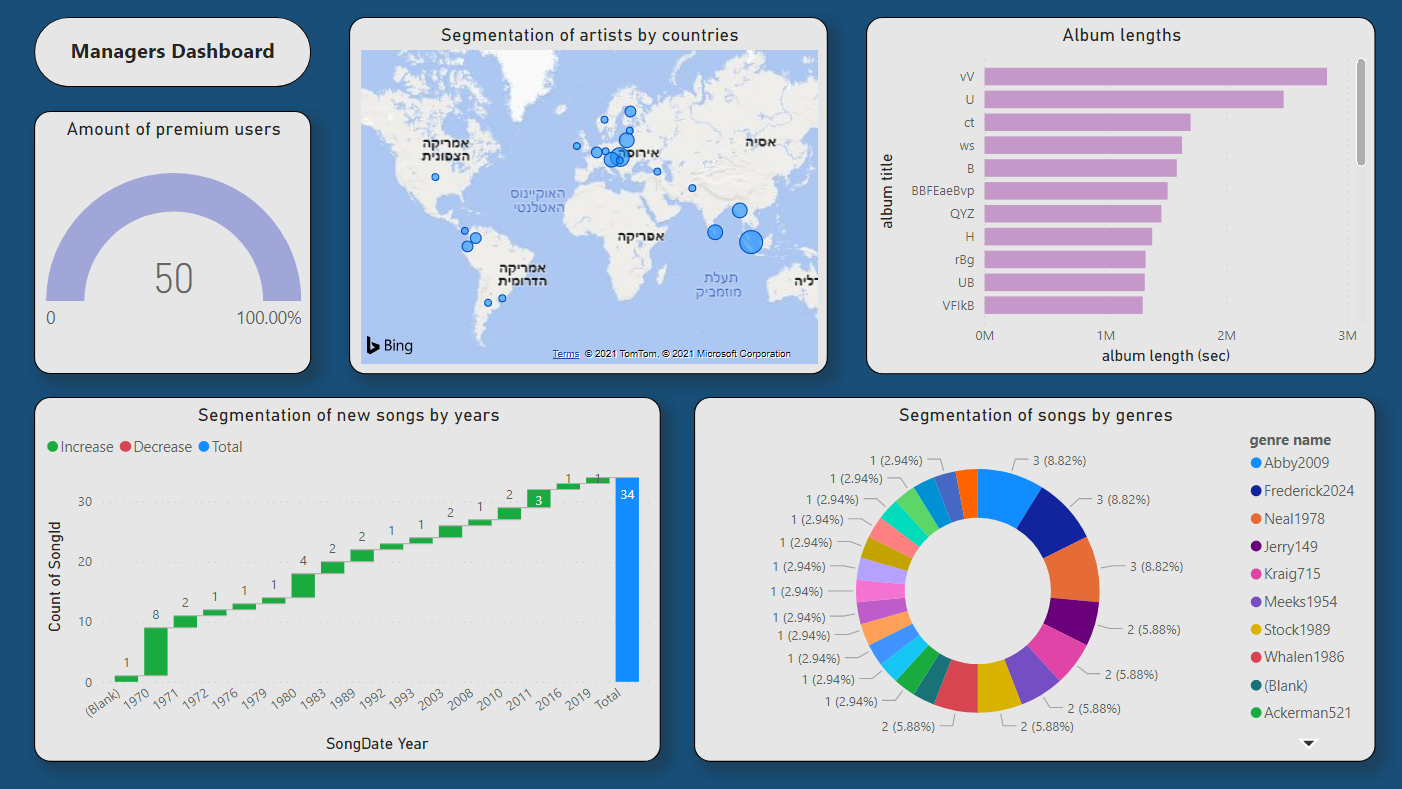

Layout of this report page (visuals, bound fields, positions):
{"tool":"powerbi","page":{"name":"Page 1","canvas":[1280,720],"ordinal":0},"visuals":[{"type":"map","title":"Segmentation of artists by countries","fields":{"Category":["NumberOfArtistsByCountryView.CountryName"],"Size":["BaseView.ArtistId"]},"box":[318.6,15.2,437.4,326.2],"z":0},{"type":"donutChart","title":"Segmentation of songs by genres","fields":{"Category":["NumberOfSongsByGenreView.GenreName"],"Y":["BaseView.SongId"]},"box":[633.3,362.3,621.9,332.8],"z":1000},{"type":"gauge","title":"Amount of premium users","fields":{"Y":["NumberOfPremiumUsersView.NumOfUsers"],"MaxValue":["BaseView.UserName"]},"box":[31.4,101.7,253,239.6],"z":2000},{"type":"waterfallChart","title":"Segmentation of new songs by years","fields":{"Category":["BaseView.SongDate.Variation.Date Hierarchy.Year"],"Y":["BaseView.SongId"]},"box":[31.4,362.3,572.5,332.8],"z":3000},{"type":"barChart","title":"Album lengths","fields":{"Category":["AlbumLengthView.AlbumTitle"],"Y":["BaseView.SongLength"]},"box":[790.3,15.2,465,326.2],"z":4000},{"type":"shape","box":[31.4,15.2,253,63.7],"z":5000},{"type":"textbox","box":[51.4,28.5,213,38],"z":6000}]}

Visuals, with their boxes in screenshot pixels (x1, y1, x2, y2), scaled from the page's 1280x720 canvas onto the 1402x789 screenshot:
"Segmentation of artists by countries" map: Rect(349, 17, 828, 374)
"Segmentation of songs by genres" donutChart: Rect(694, 397, 1375, 762)
"Amount of premium users" gauge: Rect(34, 111, 312, 374)
"Segmentation of new songs by years" waterfallChart: Rect(34, 397, 661, 762)
"Album lengths" barChart: Rect(866, 17, 1375, 374)
shape: Rect(34, 17, 312, 86)
textbox: Rect(56, 31, 290, 73)
